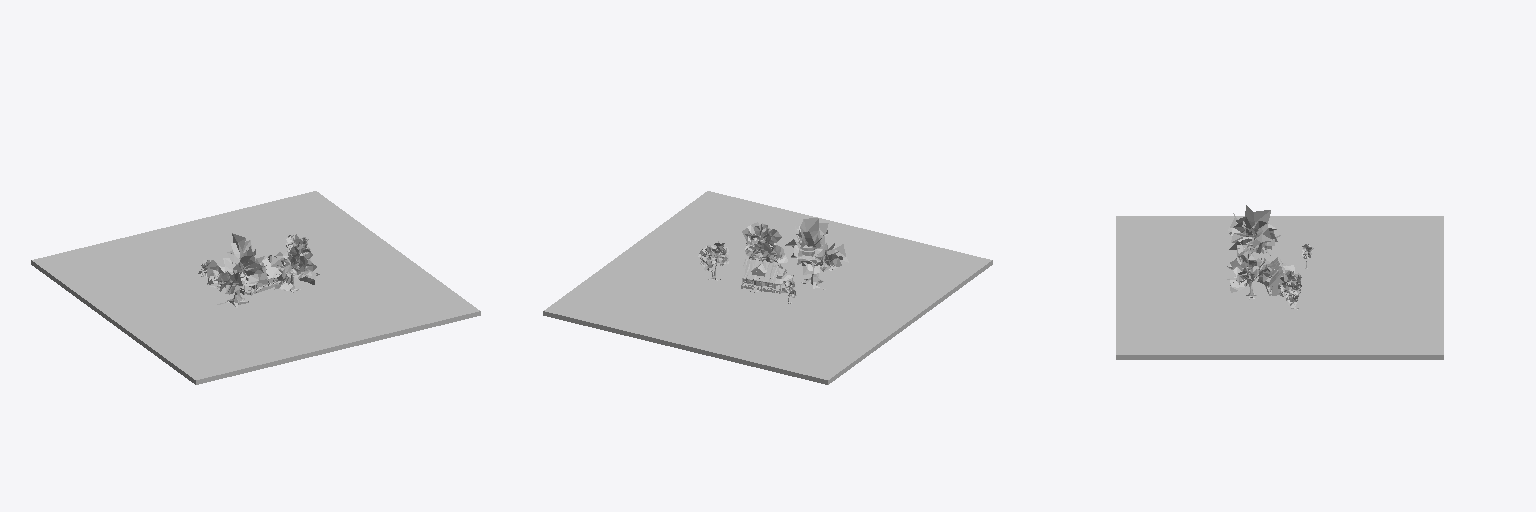
File: Physics.obj
3 renders of one model, left to right at view 1: azimuth 30°, elevation 25°; view 2: azimuth 150°, elevation 25°; view 3: azimuth 270°, elevation 25°, orthographic.
Visible parts, largest first — view 1: Box01, dry_tree_dry_tree_dry_branch, oak_tree_oak_tree_oak_tree; view 2: Box01, dry_tree_dry_tree_dry_branch, oak_tree_oak_tree_oak_tree, Object048_Térháló.020_Materi, ash_tree_ash_tree_tree_branch; view 3: Box01, dry_tree_dry_tree_dry_branch, oak_tree_oak_tree_oak_tree, ash_tree_ash_tree_tree_branch.
Part boxes in pixels (x1,y1,x2,y2): Box01: (31, 191, 480, 384); dry_tree_dry_tree_dry_branch: (207, 233, 268, 294); oak_tree_oak_tree_oak_tree: (271, 245, 319, 290); Box01: (543, 191, 992, 384); dry_tree_dry_tree_dry_branch: (785, 218, 848, 274); oak_tree_oak_tree_oak_tree: (742, 222, 787, 262); Object048_Térháló.020_Materi: (740, 259, 782, 288); ash_tree_ash_tree_tree_branch: (698, 241, 728, 270); Box01: (1116, 216, 1443, 359); dry_tree_dry_tree_dry_branch: (1228, 205, 1280, 256); oak_tree_oak_tree_oak_tree: (1227, 250, 1272, 292); ash_tree_ash_tree_tree_branch: (1278, 270, 1301, 308).
Size of the model in its own units: 77.95 by 17.99 by 77.95.